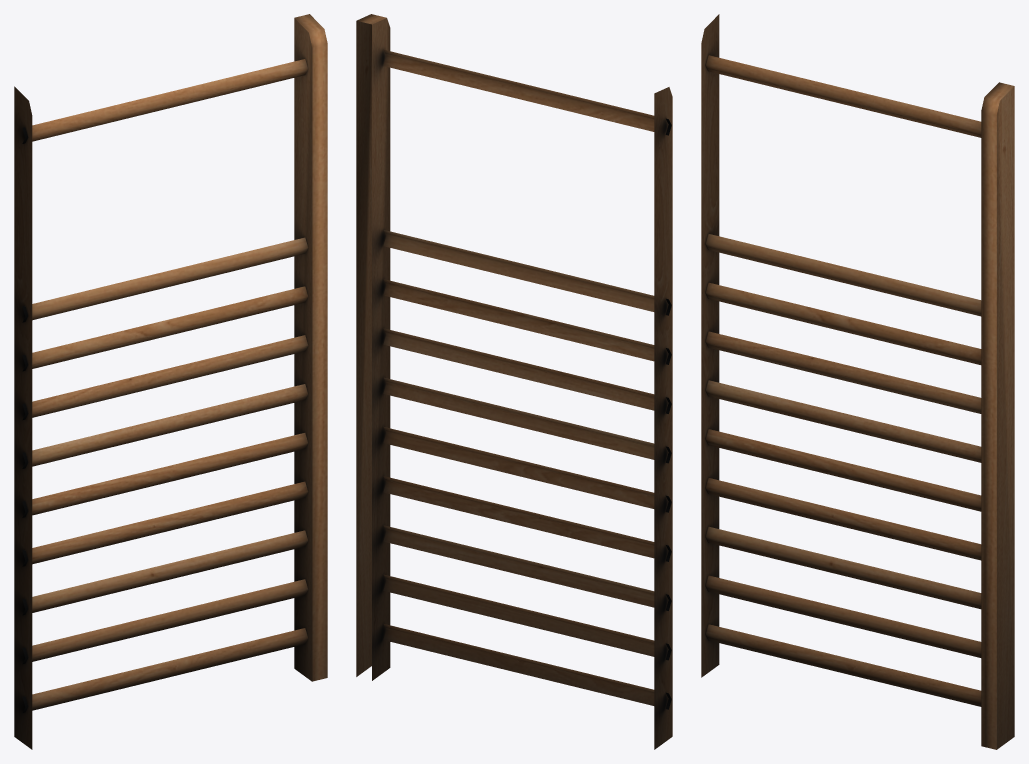
Rendered from wooden_leader_03.fbx.
3 renders of one model, left to right at view 1: azimuth 30°, elevation 25°; view 2: azimuth 150°, elevation 25°; view 3: azimuth 330°, elevation 25°, orthographic.
Visible parts, largest first — view 1: Cube_009; view 2: Cube_009; view 3: Cube_009.
Boxes of the visible parts, x1,y1,x2,y2 form: Cube_009: (14, 14, 327, 749); Cube_009: (356, 14, 672, 749); Cube_009: (701, 14, 1014, 749).
Bounding box in the file's own units: 1.92 × 4 × 0.2.
